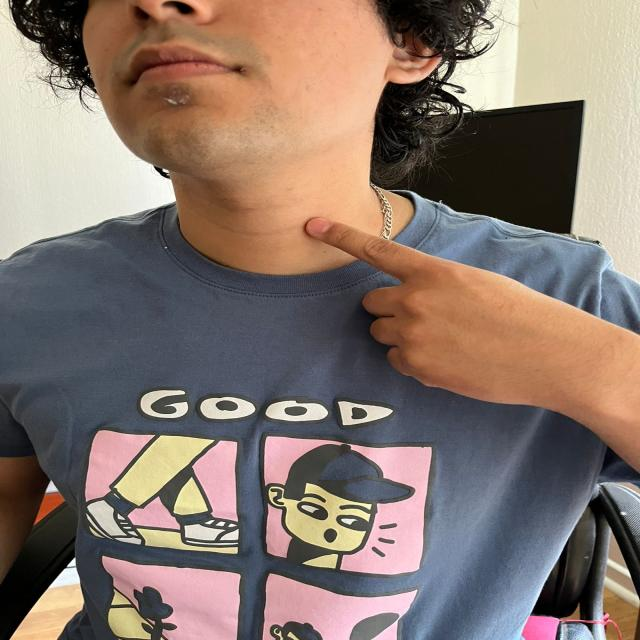Q: (252, 181, 637, 426)
